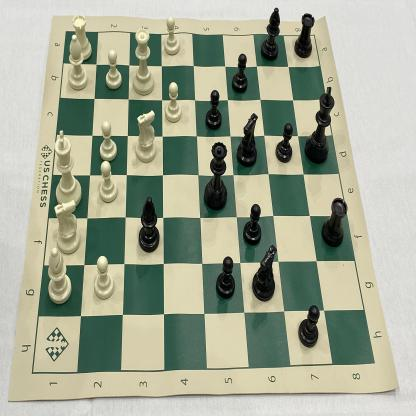black-bishop: (136, 195, 162, 257), (259, 7, 282, 64)
black-king: (305, 82, 337, 164)
black-knight: (251, 238, 278, 306), (235, 110, 260, 170)
black-pawn: (296, 303, 321, 350), (214, 253, 236, 303), (242, 199, 263, 247), (230, 50, 250, 97), (274, 122, 295, 166), (204, 87, 223, 131)
black-queen: (203, 136, 229, 214)
black-rook: (321, 195, 350, 255), (293, 10, 316, 62)
white-bishop: (44, 247, 75, 307), (65, 32, 90, 93)
white-king: (51, 126, 83, 211)
white-knight: (55, 198, 81, 256), (134, 109, 156, 164)
white-pawn: (89, 253, 116, 301), (97, 160, 121, 206), (98, 119, 119, 164), (162, 13, 182, 58), (104, 47, 124, 92), (163, 81, 183, 125)
white-queen: (129, 25, 156, 98)
white-rook: (70, 11, 94, 64)
